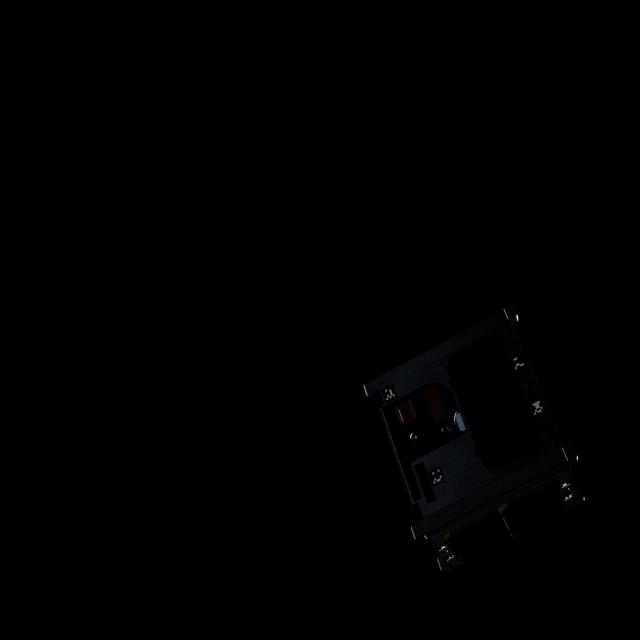satellite: (349, 294, 639, 594)
